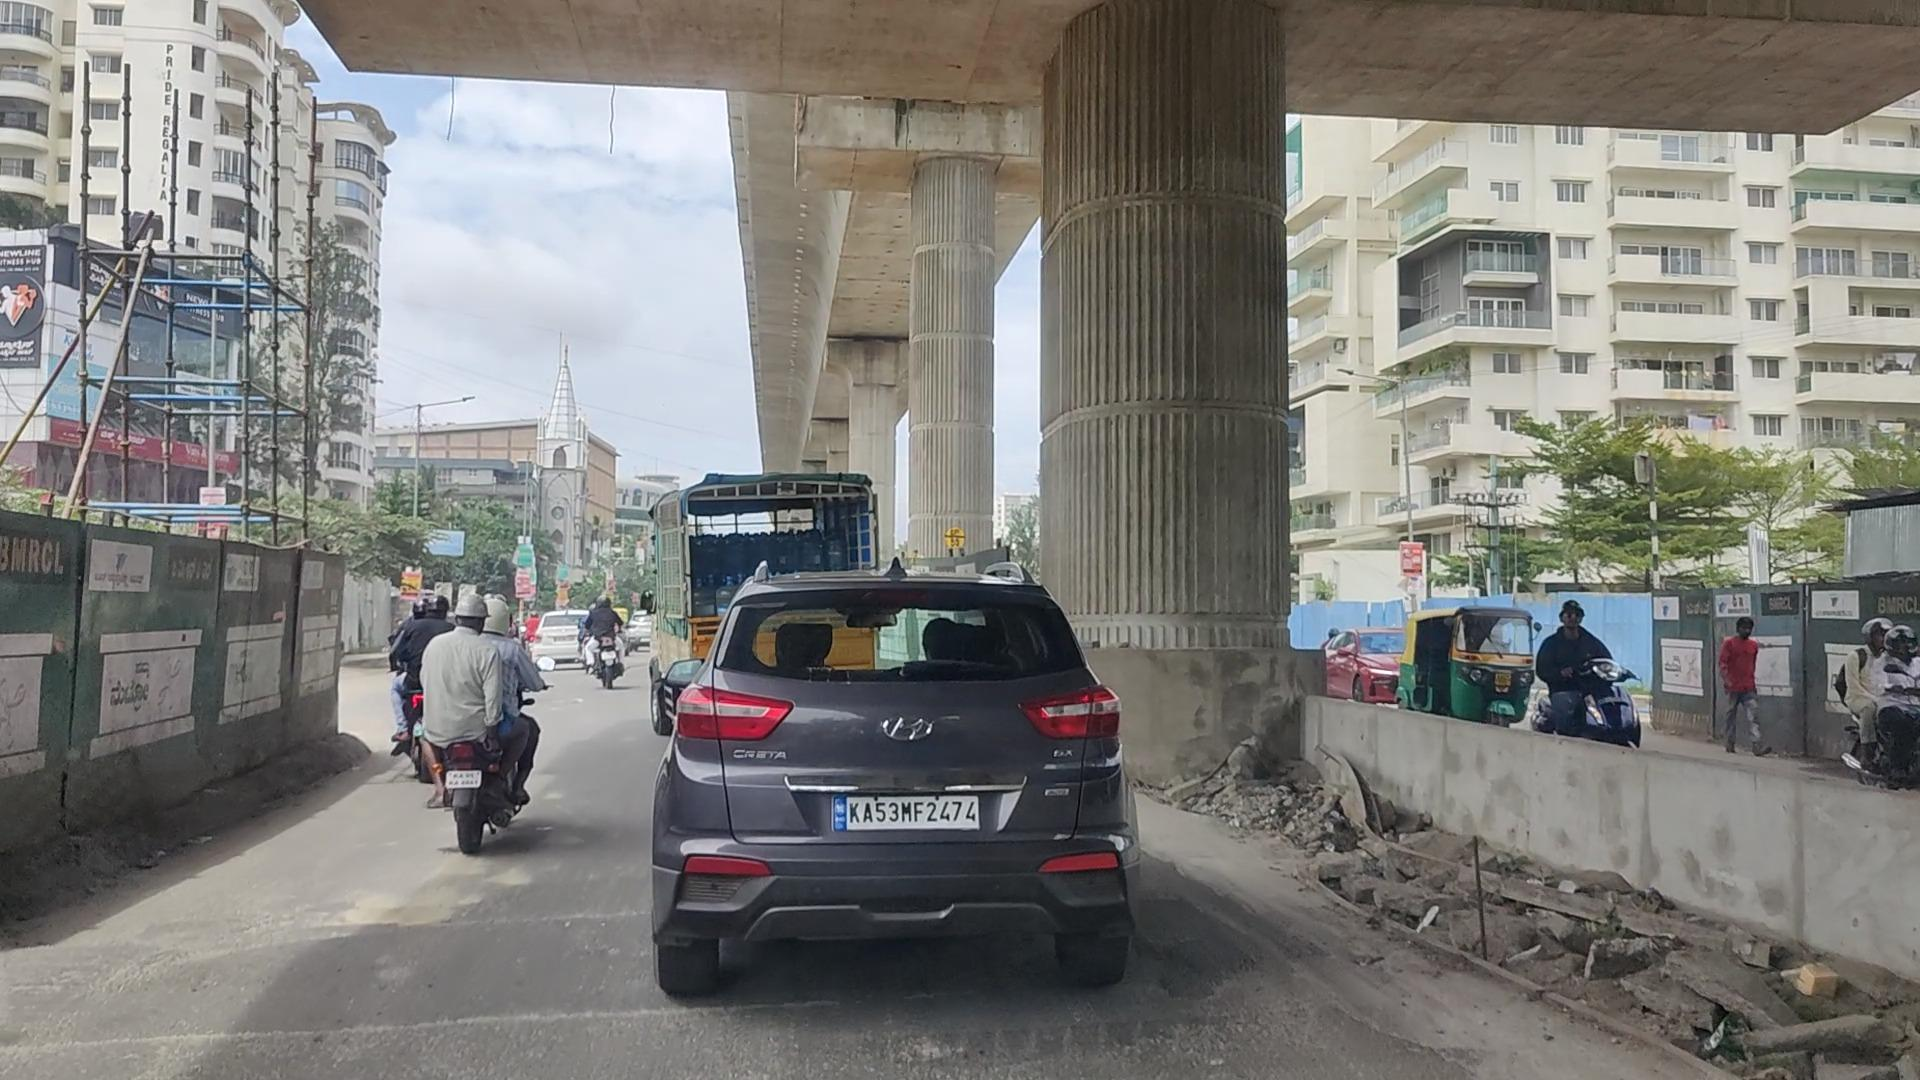LMV: (671, 588, 1135, 985), (414, 595, 537, 856)
SpeedBump: (71, 924, 649, 1056)
